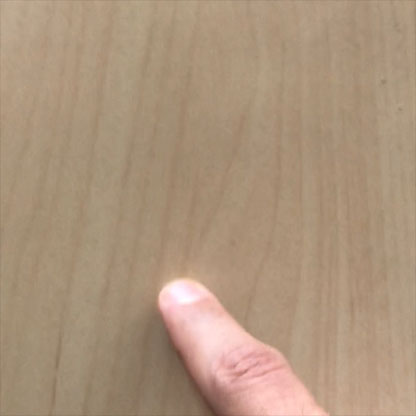fingertip: (143, 266, 224, 323)
